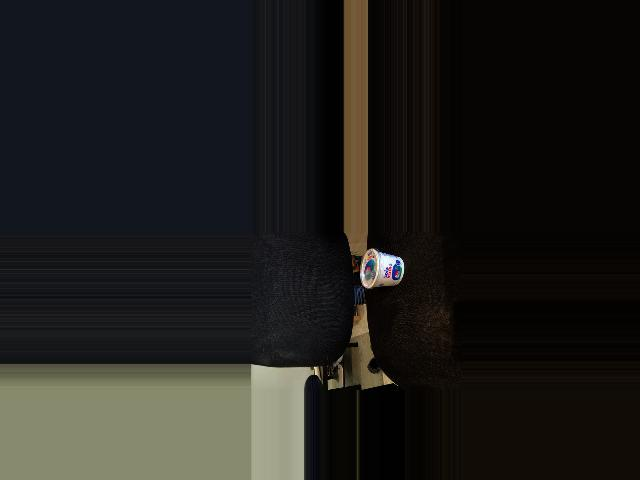cotage: (359, 248, 406, 291)
